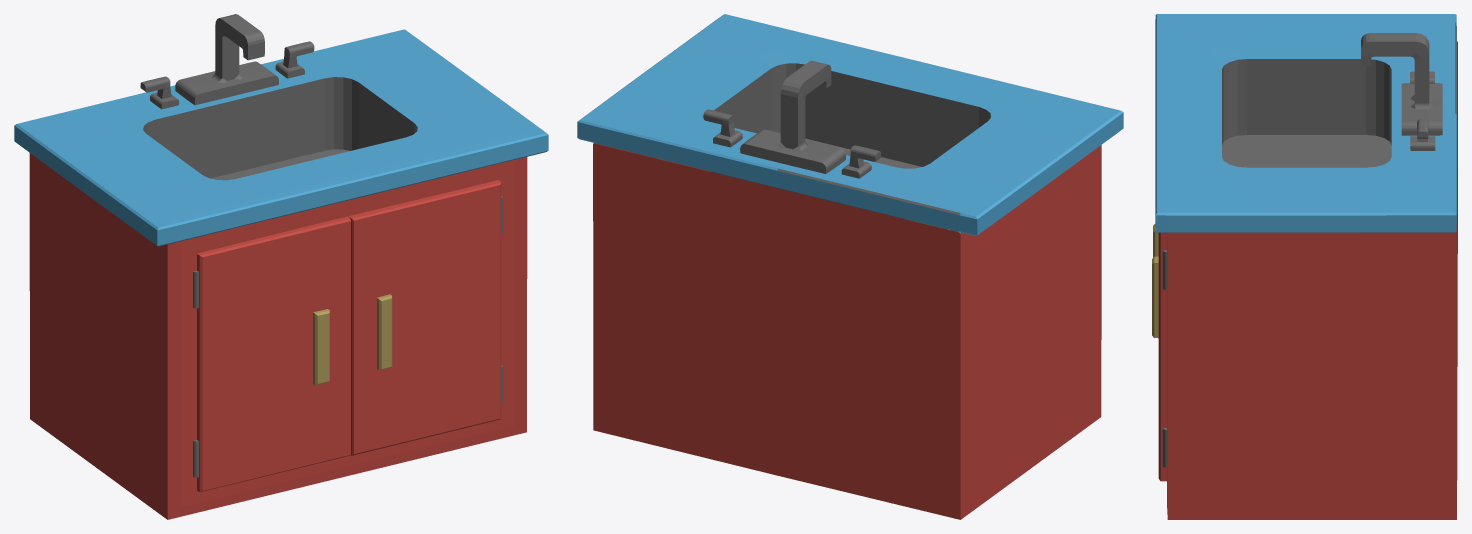
File: LudumDareSink.fbx
3 renders of one model, left to right at view 1: azimuth 30°, elevation 25°; view 2: azimuth 150°, elevation 25°; view 3: azimuth 270°, elevation 25°, orthographic. The views are drawn at different scales.
Visible parts, largest first — view 1: Doors.001, Cabinet Closed.001, Cabinet Top.001, Cabinet Top.003, Cabinet Top.002, Handles.001, Hinges.001; view 2: Cabinet Closed.001, Cabinet Top.001, Cabinet Top.003, Cabinet Top.002; view 3: Cabinet Closed.001, Cabinet Top.001, Cabinet Top.003, Cabinet Top.002, Doors.001, Handles.001, Hinges.001.
Boxes of the visible parts, x1,y1,x2,y2 form: Doors.001: (197,180,501,492); Cabinet Closed.001: (29,153,527,519); Cabinet Top.001: (14,29,548,246); Cabinet Top.003: (143,77,417,180); Cabinet Top.002: (140,14,314,109); Handles.001: (313,294,392,385); Hinges.001: (193,196,502,477); Cabinet Closed.001: (593,143,1101,519); Cabinet Top.001: (577,14,1123,235); Cabinet Top.003: (710,63,990,228); Cabinet Top.002: (703,60,960,215); Cabinet Closed.001: (1167,41,1457,519); Cabinet Top.001: (1155,14,1456,232); Cabinet Top.003: (1222,59,1391,167); Cabinet Top.002: (1361,22,1456,150); Doors.001: (1158,232,1166,481); Handles.001: (1152,224,1158,338); Hinges.001: (1162,250,1166,467).
Bounding box in the file's own units: 115 × 105 × 74.21.
